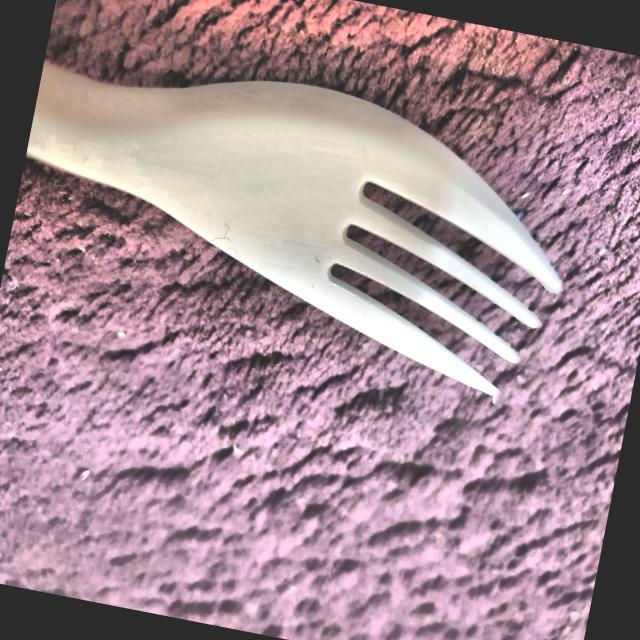plastic utensil: (0, 22, 588, 411)
